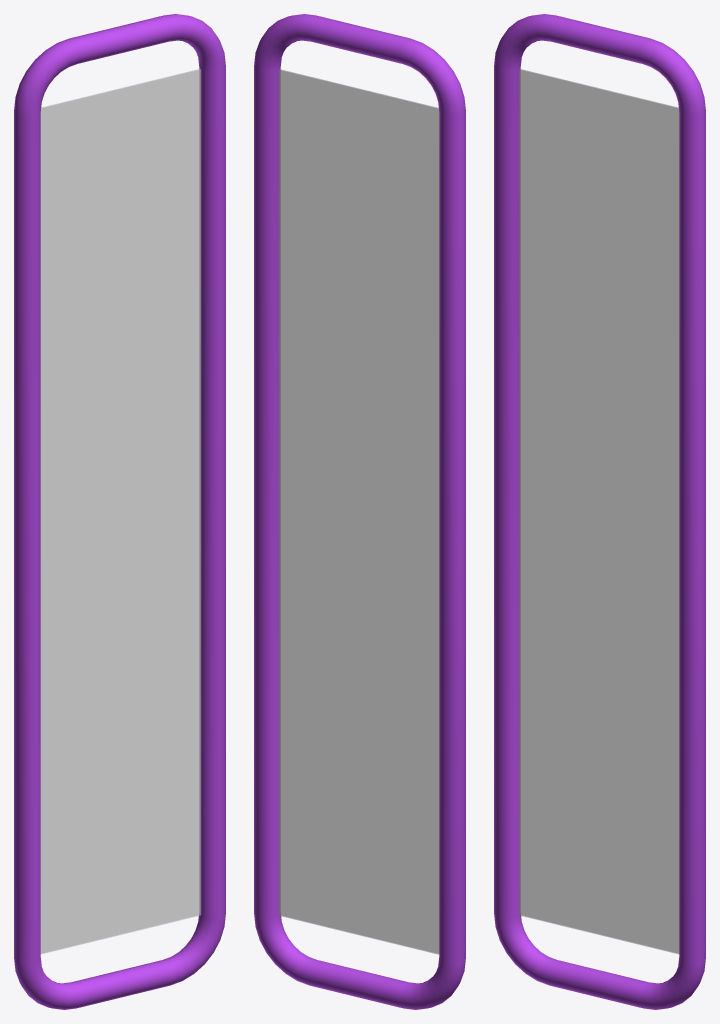
The model's file is Rallings_C_4x1m.FBX.
The picture shows the model from 3 angles, left to right: view 1: azimuth 30°, elevation 25°; view 2: azimuth 150°, elevation 25°; view 3: azimuth 330°, elevation 25°; orthographic projection.
Visible parts, largest first — view 1: Rallings_C_4x1m; view 2: Rallings_C_4x1m; view 3: Rallings_C_4x1m.
Boxes of the visible parts, <box> form: Rallings_C_4x1m: <box>14,14,225,1009</box>; Rallings_C_4x1m: <box>254,14,465,1009</box>; Rallings_C_4x1m: <box>494,14,705,1009</box>.
Bounding box in the file's own units: 90 × 400 × 10.
